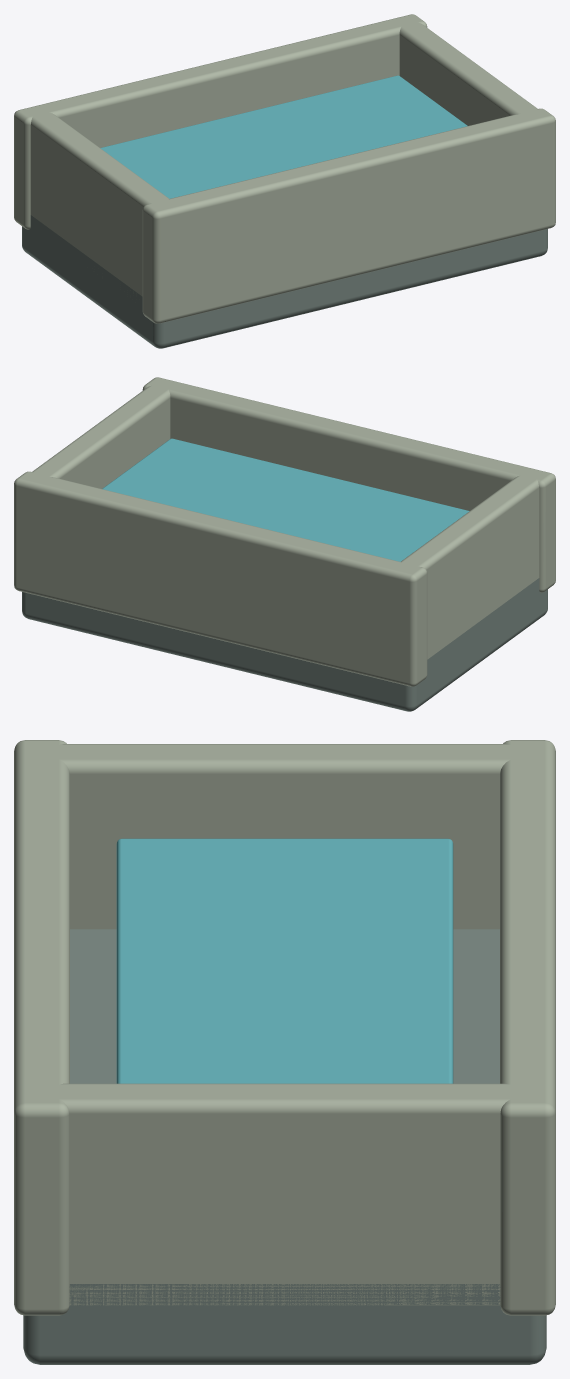
File: fixture-elephant-water-v01.glb
The picture shows the model from 3 angles, top to bottom: view 1: azimuth 30°, elevation 25°; view 2: azimuth 150°, elevation 25°; view 3: azimuth 270°, elevation 25°; orthographic projection. The views are drawn at different scales.
Parts seen in each view (by area): view 1: merged-static, surface, joinery; view 2: merged-static, surface, joinery; view 3: merged-static, surface, joinery.
Part boxes in pixels (x1,y1,x2,y2): merged-static: [14, 14, 555, 323]; surface: [100, 75, 467, 198]; joinery: [22, 215, 547, 348]; merged-static: [14, 377, 555, 686]; surface: [102, 438, 469, 561]; joinery: [22, 578, 547, 711]; merged-static: [14, 740, 555, 1315]; surface: [116, 838, 453, 1083]; joinery: [23, 929, 546, 1364].
Size of the model in its own units: 0.94 by 0.315 by 0.58.
